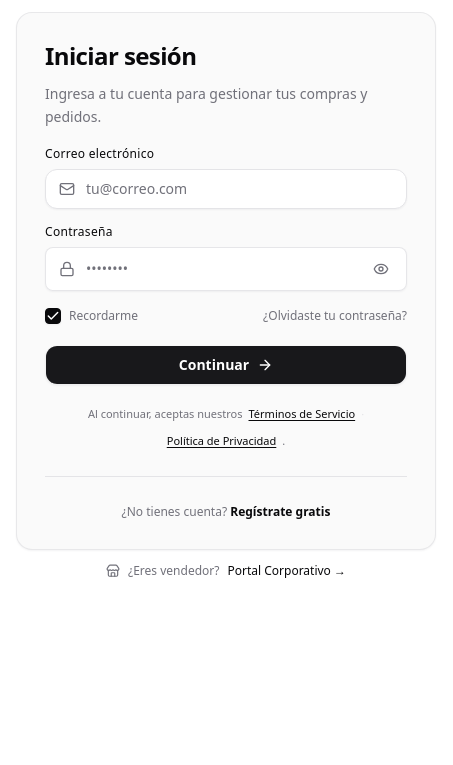
Segmentación de Fronteras de Acceso y PasswordInput (Boundary Enforcement) › 2. Boundary Enforcement en LoginPage (Portal Compradores) › 2.3 permite descartar el aviso de frontera en LoginPage y reintentar con otra cuenta
Type "vendedor@zentric.local" into the field labelled "Correo electrónico" at (226, 188), box 45,168 -> 407,208
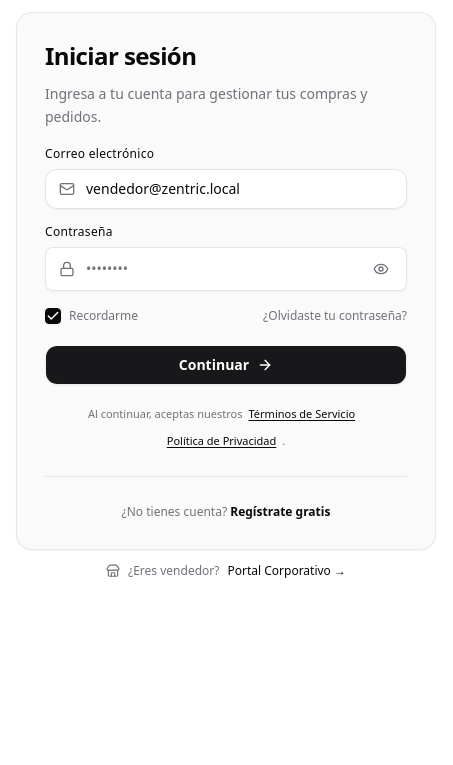
Type "SellerPass123!" into the password field labelled "Contraseña" at (226, 268), box 45,246 -> 407,290
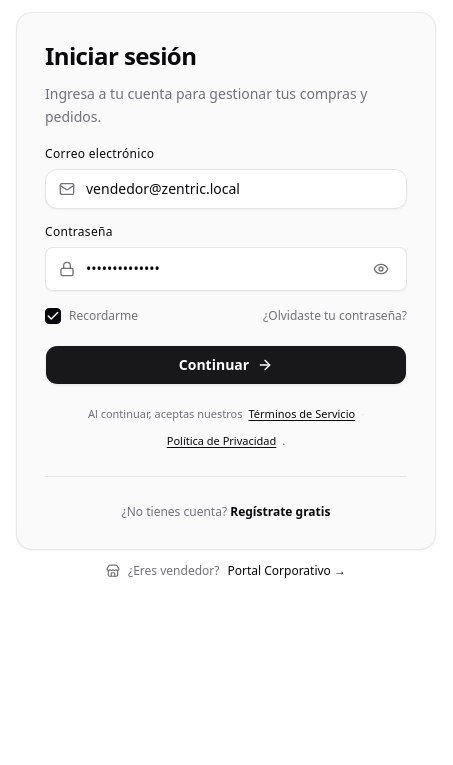
Click the button "Continuar" at (226, 364), box 45,344 -> 407,384
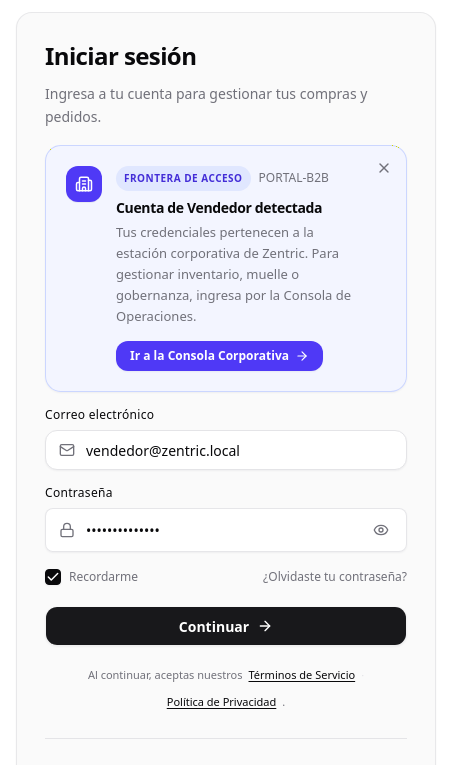
Click the button named "Cerrar aviso de frontera" at (384, 168), box 372,156 -> 396,180
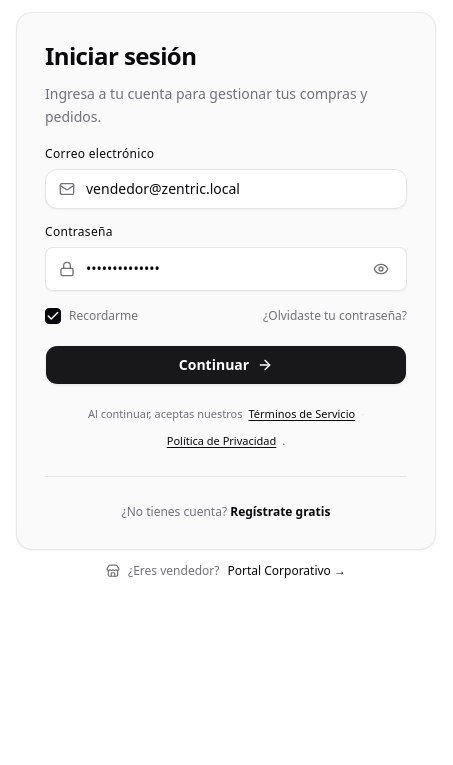
Expected: the text "Frontera de Acceso" is gone
